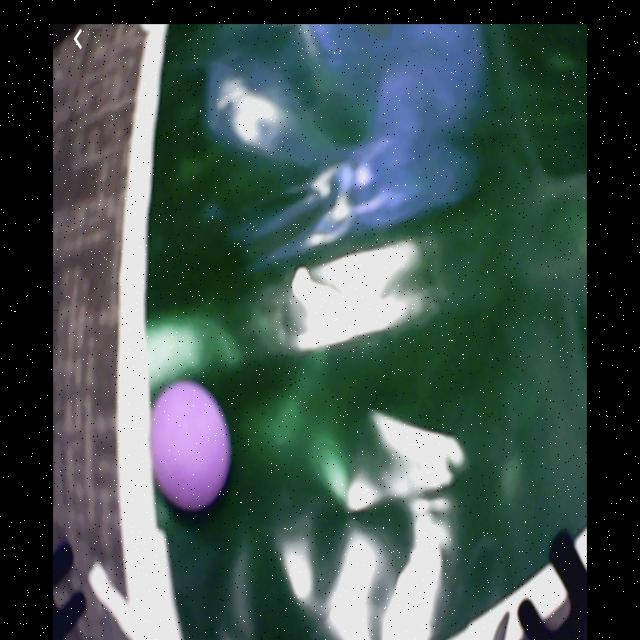ball: (150, 381, 232, 506)
